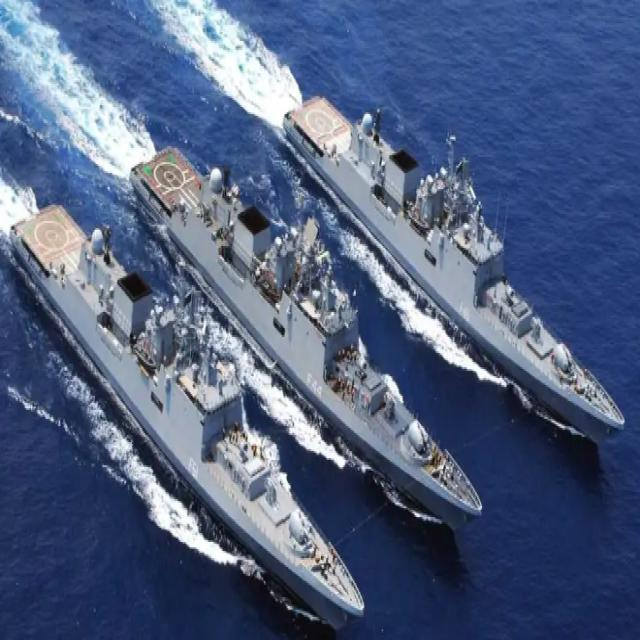navalvessels: (12, 181, 363, 632), (129, 139, 483, 537), (282, 76, 628, 442)
